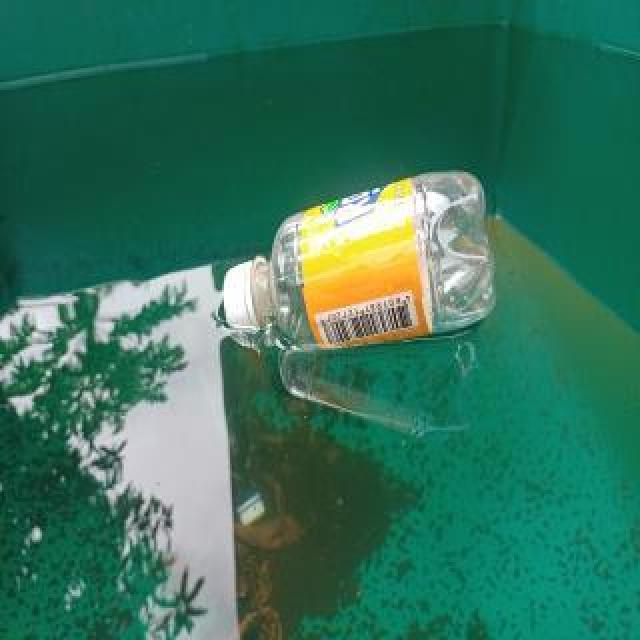bottle: (220, 156, 504, 354)
